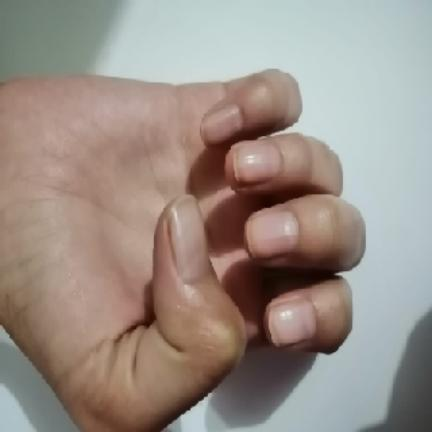Nail: (169, 195, 212, 283), (246, 211, 298, 258), (231, 140, 283, 183), (268, 301, 316, 345), (201, 105, 244, 143)
